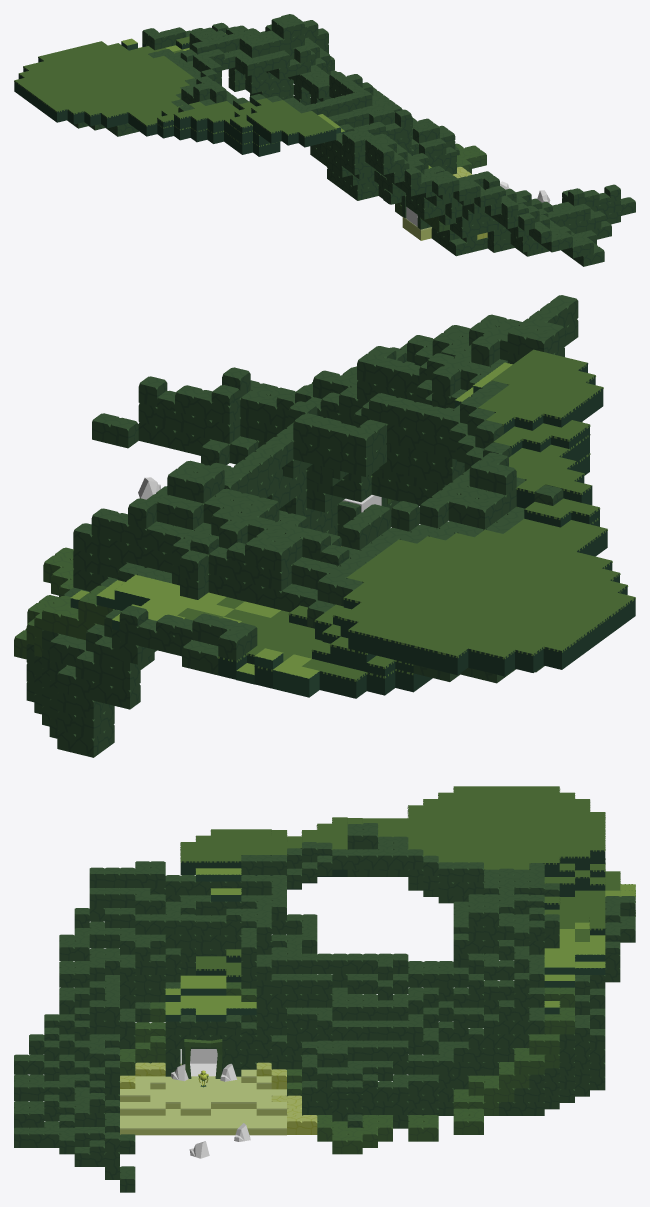
The model's file is Map_Beach2.fbx.
3 renders of one model, top to bottom at view 1: azimuth 30°, elevation 25°; view 2: azimuth 150°, elevation 25°; view 3: azimuth 270°, elevation 25°, orthographic. The views are drawn at different scales.
Parts seen in each view (by area): view 1: no part large enough to name; view 2: Mesh_TileGroundGrass.393, Mesh_TileGroundGrass.365, Mesh_TileRock.1552, Mesh_TileRock.1864, Mesh_TileGroundGrass.391, Mesh_TileGroundGrass.392, Mesh_GroundGrassDry.117, Mesh_TileGroundGrass.119, Mesh_TileRock.1403, Mesh_TileRock.1369, Mesh_TileRock.1721, Mesh_TileRock.1735 (+13 smaller); view 3: Mesh_VFX_Entrance2x2.001, Mesh_CaveFrame.001.
Part boxes in pixels (x1=…): Mesh_TileGroundGrass.393: x1=543, y1=639, x2=572, y2=669; Mesh_TileGroundGrass.365: x1=439, y1=644, x2=468, y2=675; Mesh_TileRock.1552: x1=185, y1=472, x2=214, y2=503; Mesh_TileRock.1864: x1=341, y1=519, x2=370, y2=550; Mesh_TileGroundGrass.391: x1=486, y1=645, x2=515, y2=676; Mesh_TileGroundGrass.392: x1=515, y1=642, x2=543, y2=672; Mesh_GroundGrassDry.117: x1=291, y1=666, x2=319, y2=697; Mesh_TileGroundGrass.119: x1=338, y1=667, x2=366, y2=698; Mesh_TileRock.1403: x1=471, y1=336, x2=499, y2=366; Mesh_TileRock.1369: x1=348, y1=427, x2=376, y2=457; Mesh_TileRock.1721: x1=263, y1=541, x2=291, y2=571; Mesh_TileRock.1735: x1=218, y1=630, x2=246, y2=660; Mesh_VFX_Entrance2x2.001: x1=190, y1=1049, x2=217, y2=1076; Mesh_CaveFrame.001: x1=184, y1=1039, x2=222, y2=1078.
Size of what is drawn, in the model's own units: 84.05 by 82.05 by 24.03.
